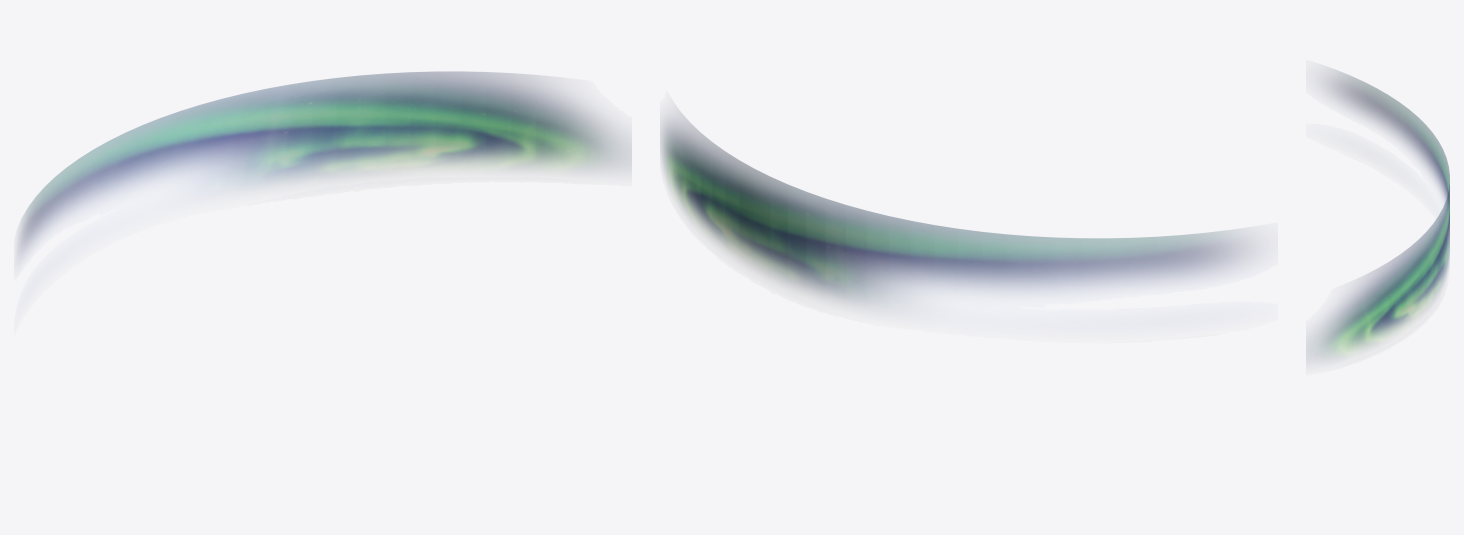
The model's file is auroraLight2.glb.
The picture shows the model from 3 angles, left to right: view 1: azimuth 30°, elevation 25°; view 2: azimuth 150°, elevation 25°; view 3: azimuth 270°, elevation 25°; orthographic projection. The views are drawn at different scales.
Visible parts, largest first — view 1: northern-lights-png-transparent-image-download-98450-2048x92; view 2: northern-lights-png-transparent-image-download-98450-2048x92; view 3: northern-lights-png-transparent-image-download-98450-2048x92.
Part boxes in pixels (bbox=[...]): northern-lights-png-transparent-image-download-98450-2048x92: bbox=[19, 71, 631, 253]; northern-lights-png-transparent-image-download-98450-2048x92: bbox=[660, 117, 1245, 307]; northern-lights-png-transparent-image-download-98450-2048x92: bbox=[1306, 71, 1449, 359].
Bounding box in the file's own units: 168 × 88.61 × 42.97.
1 material, 1 textured.
